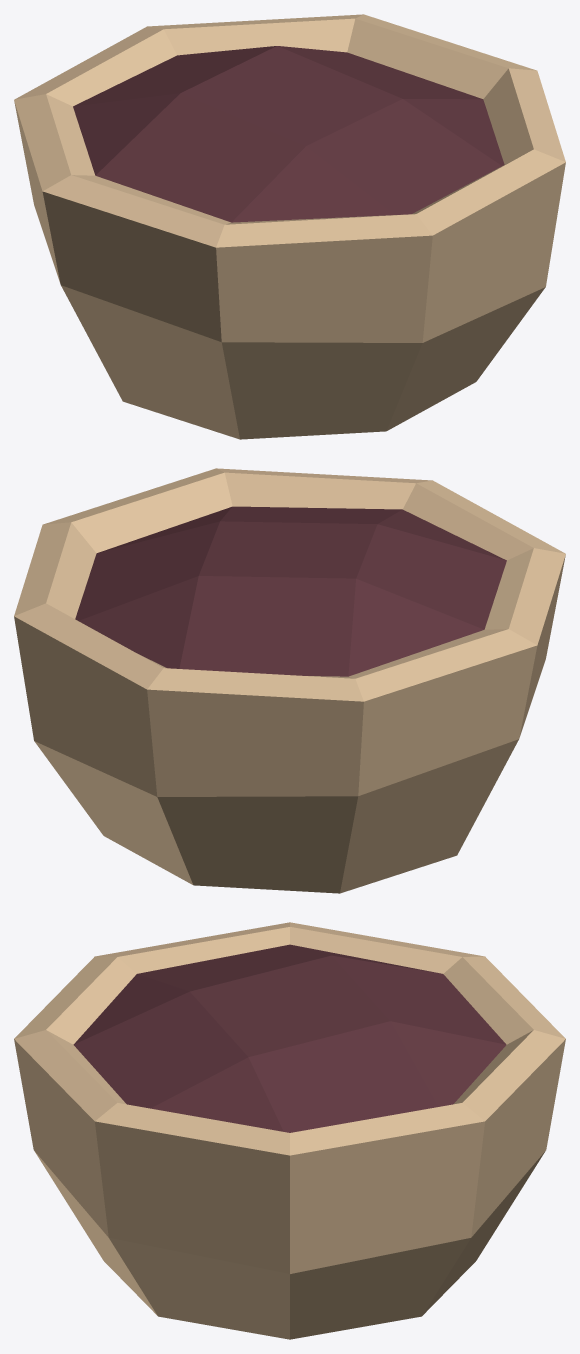
File: egypt-bowl-spice.fbx
The picture shows the model from 3 angles, top to bottom: view 1: azimuth 30°, elevation 25°; view 2: azimuth 150°, elevation 25°; view 3: azimuth 270°, elevation 25°; orthographic projection. The views are drawn at different scales.
Visible parts, largest first — view 1: egypt-bowl-spice; view 2: egypt-bowl-spice; view 3: egypt-bowl-spice.
Part boxes in pixels (x1=…): egypt-bowl-spice: x1=14, y1=14, x2=565, y2=439; egypt-bowl-spice: x1=14, y1=468, x2=565, y2=893; egypt-bowl-spice: x1=14, y1=922, x2=565, y2=1339.
Size of the model in its own units: 0.533 by 0.2813 by 0.533.
